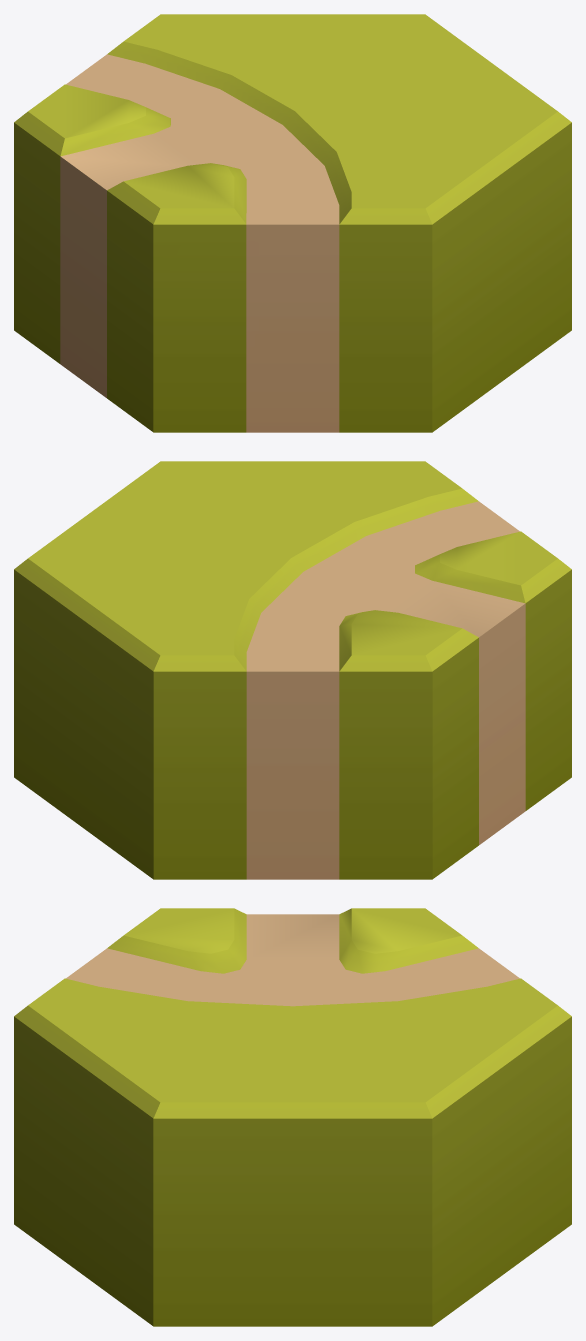
File: kaykit-medieval-hexagon-pack-hex-road-g.glb
The picture shows the model from 3 angles, top to bottom: view 1: azimuth 30°, elevation 25°; view 2: azimuth 150°, elevation 25°; view 3: azimuth 270°, elevation 25°; orthographic projection.
Parts seen in each view (by area): view 1: hex_road_G; view 2: hex_road_G; view 3: hex_road_G.
Part boxes in pixels (x1=…): hex_road_G: x1=14, y1=14, x2=571, y2=432; hex_road_G: x1=14, y1=461, x2=571, y2=879; hex_road_G: x1=14, y1=908, x2=571, y2=1326.
Bounding box in the file's own units: 2 × 1 × 2.31.
Materials: 1 (1 with a texture image).
